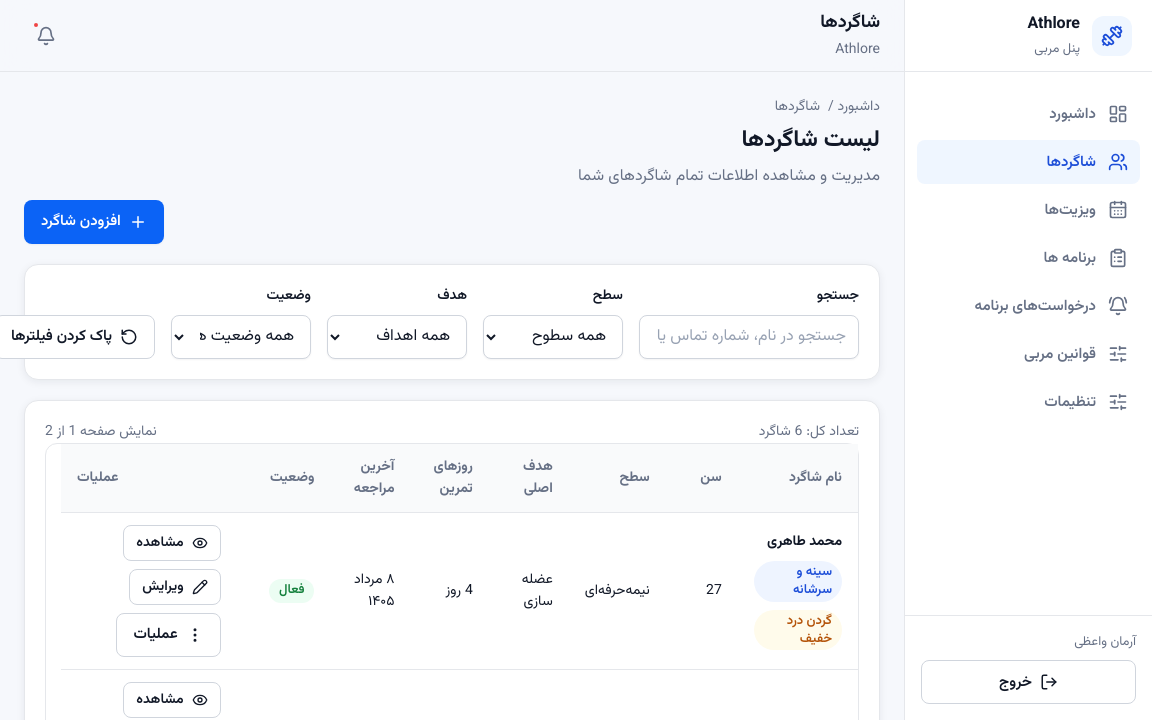
Test: StudentsListPage › shows no result state
Type "شاگرد ناموجود" into the field labelled "جستجو" at (749, 337), box [639,315,859,359]
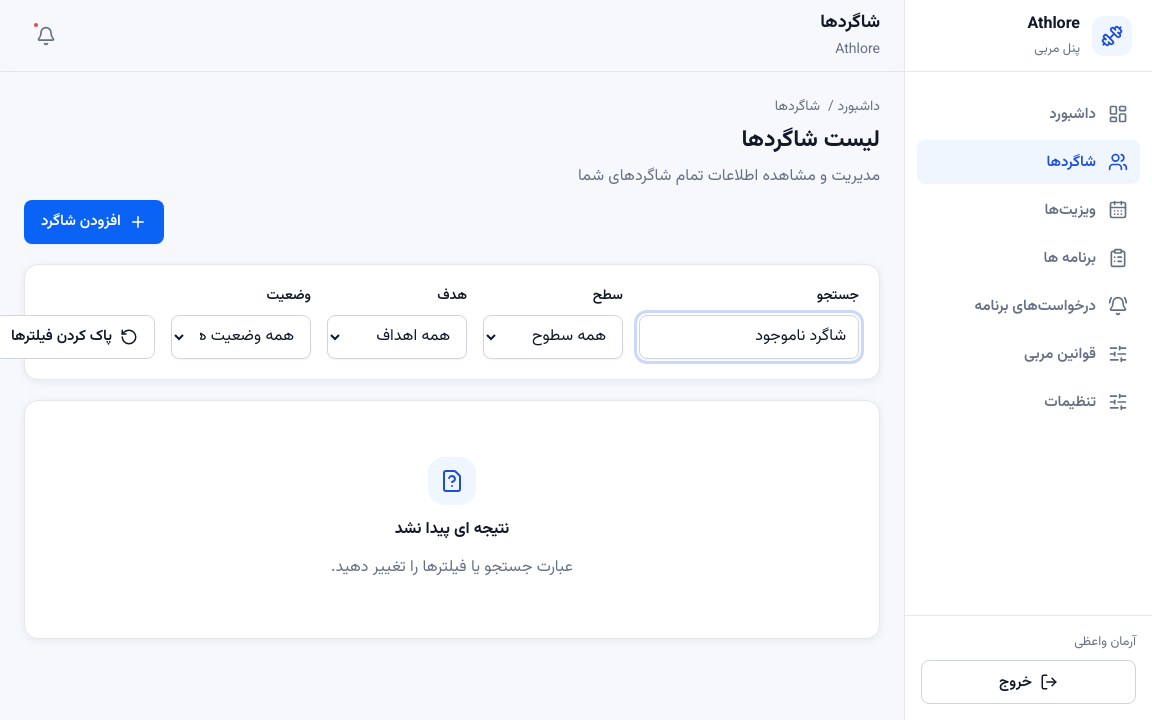
Now the heading "نتیجه ای پیدا نشد" is shown, box [395,517,509,542]
